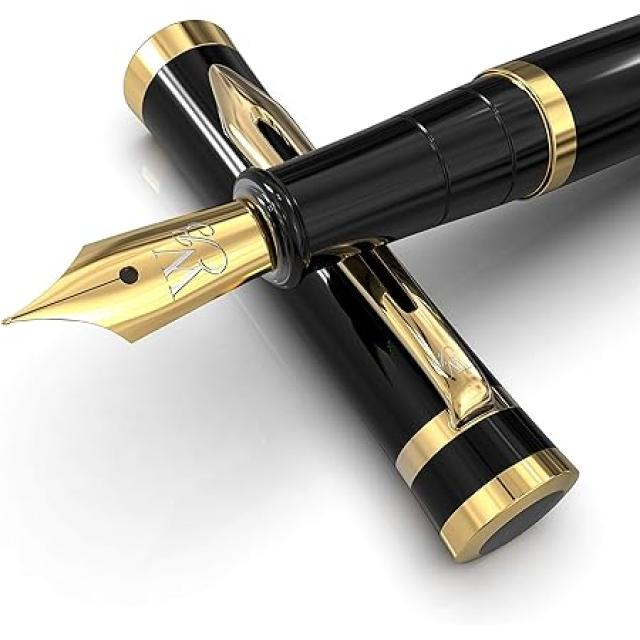pen: (2, 21, 640, 564)
